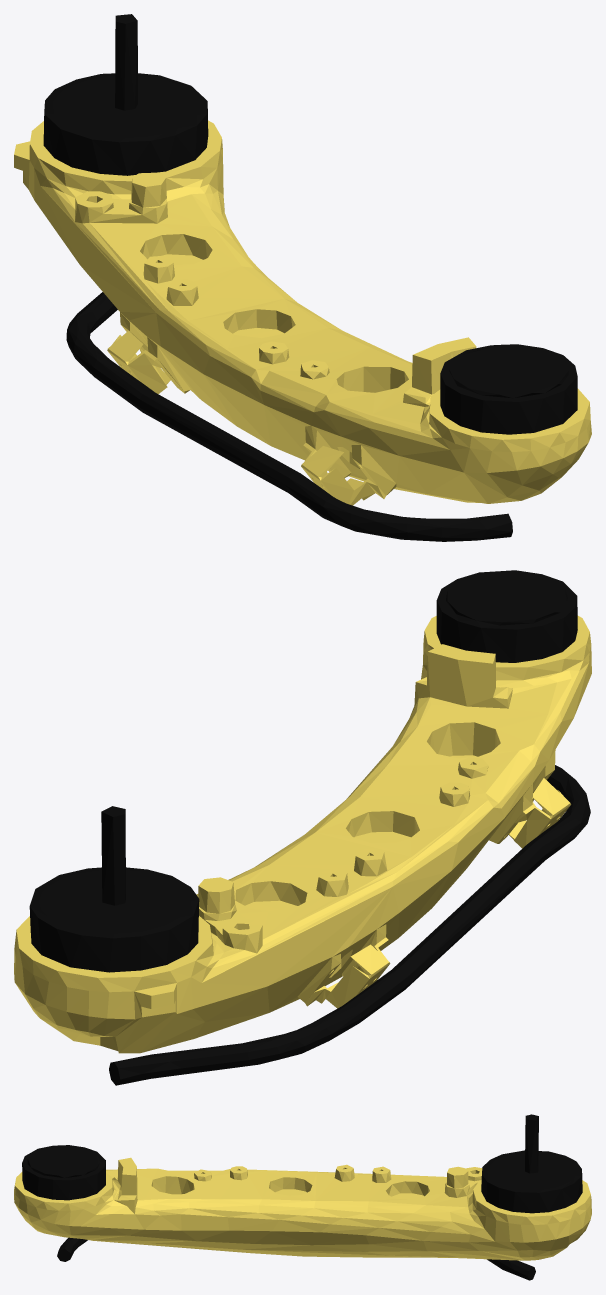
3 renders of one model, top to bottom at view 1: azimuth 30°, elevation 25°; view 2: azimuth 150°, elevation 25°; view 3: azimuth 270°, elevation 25°, orthographic. The views are drawn at different scales.
Visible parts, largest first — view 1: /Link2/Link2-mesh/0, /Link2/Link2-mesh/1; view 2: /Link2/Link2-mesh/0, /Link2/Link2-mesh/1; view 3: /Link2/Link2-mesh/0, /Link2/Link2-mesh/1.
Boxes of the visible parts, bbox=[...] form: /Link2/Link2-mesh/0: bbox=[14, 120, 591, 505]; /Link2/Link2-mesh/1: bbox=[43, 14, 577, 541]; /Link2/Link2-mesh/0: bbox=[14, 615, 591, 1053]; /Link2/Link2-mesh/1: bbox=[29, 570, 590, 1085]; /Link2/Link2-mesh/0: bbox=[14, 1157, 591, 1260]; /Link2/Link2-mesh/1: bbox=[22, 1114, 582, 1280].
Bounding box in the file's own units: 0.2142 × 0.2455 × 0.7906.
